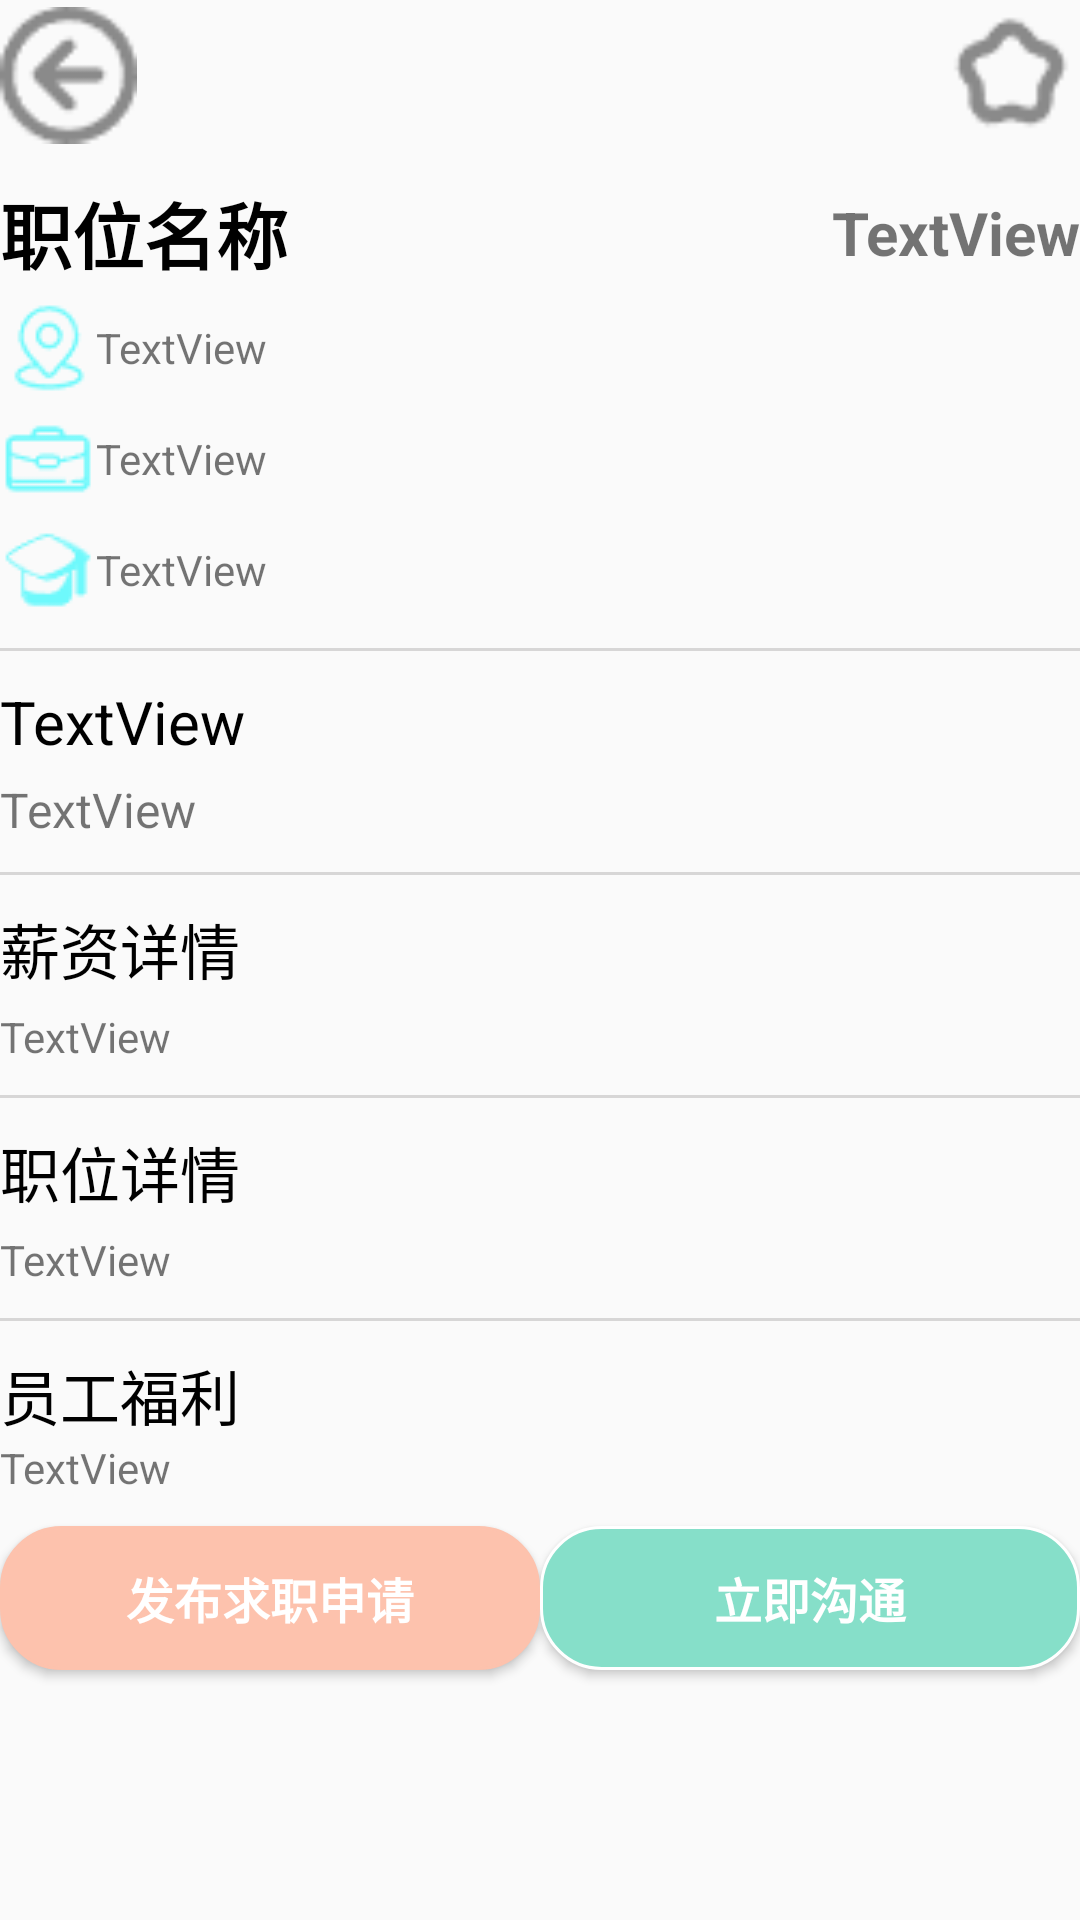

Named icons in this screenshot (1080×1920) and their centers, point (x, y):
fanjhui: point (68, 75)
gongwenbao: point (48, 459)
soucang: point (1011, 71)
weizhi: point (49, 348)
xueli: point (48, 570)
